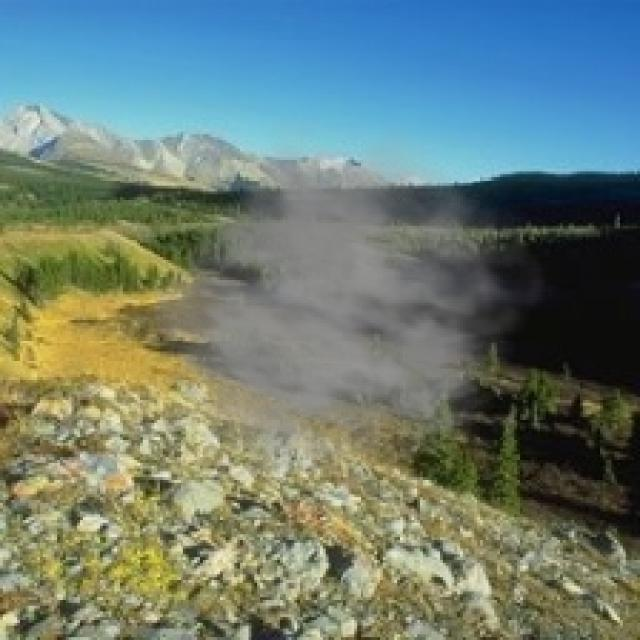smoke: (152, 123, 552, 483)
